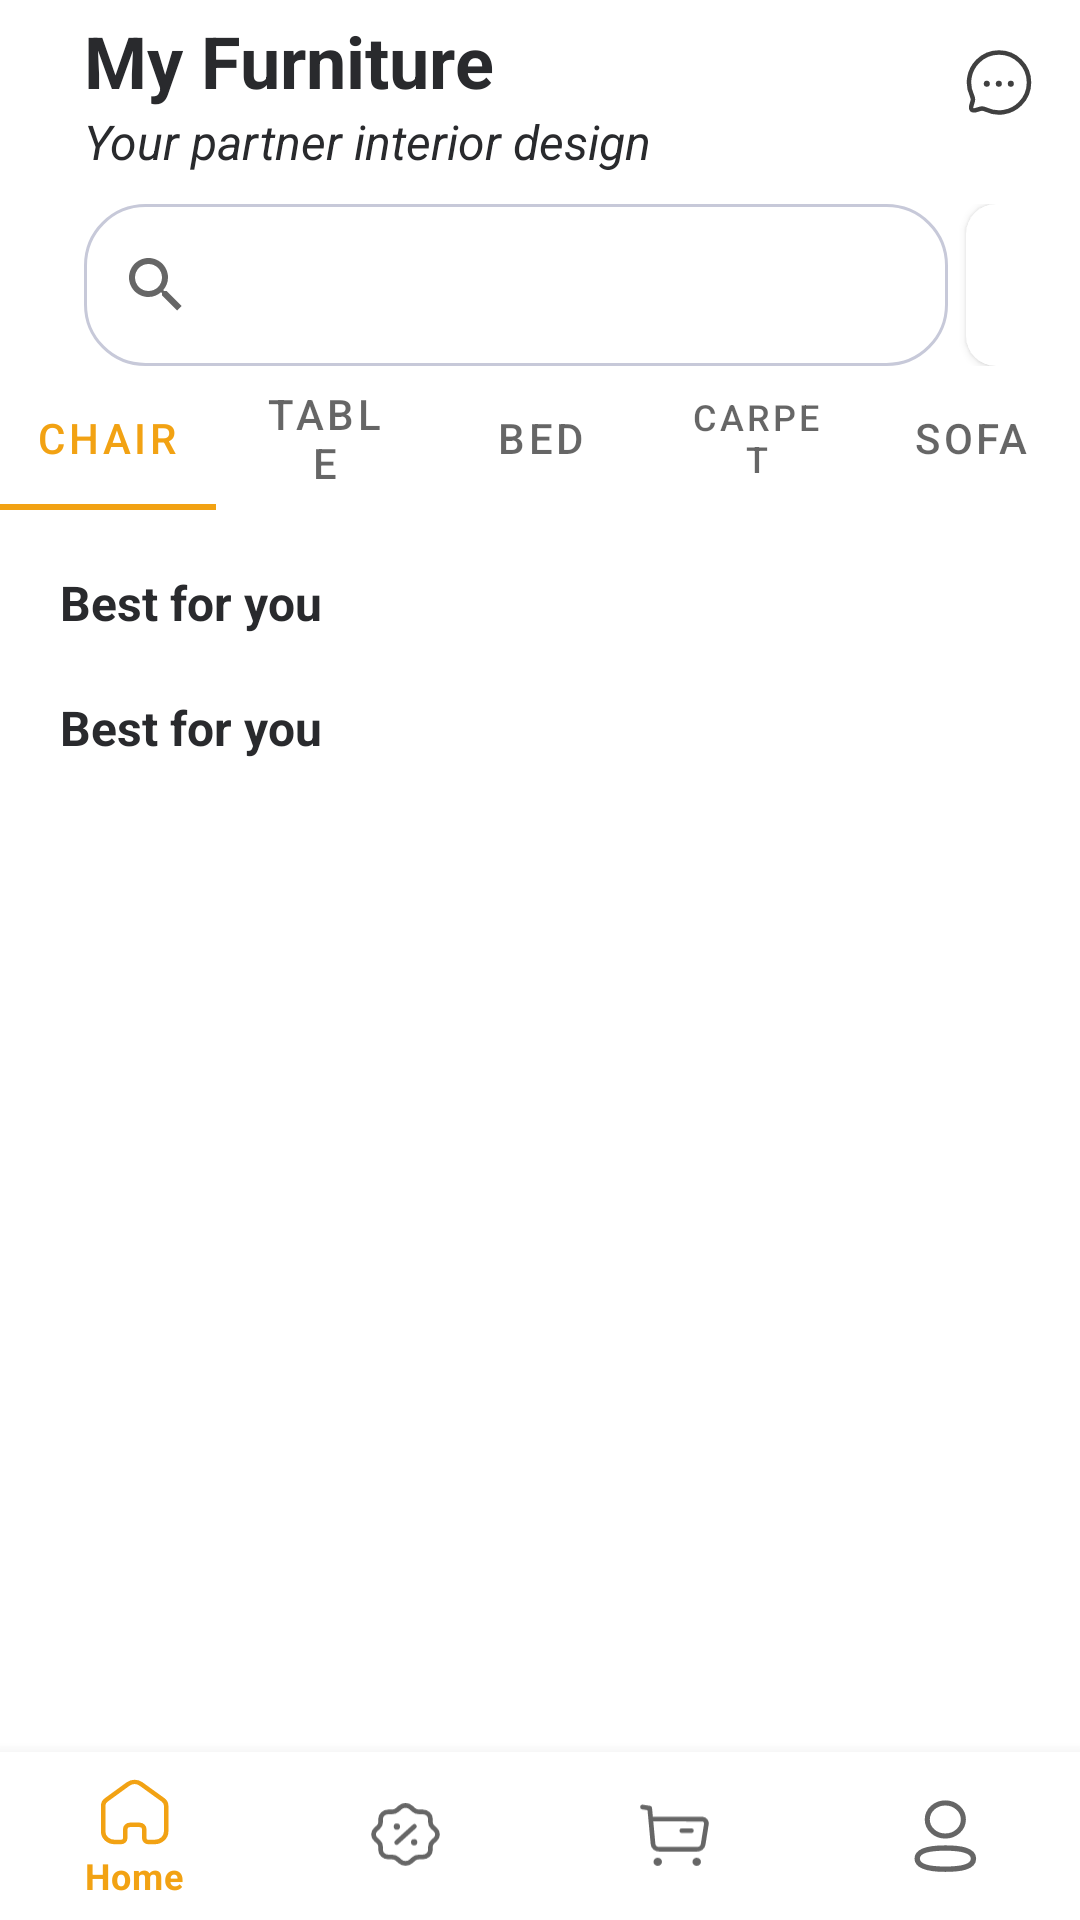

Where to tap for icons on this 1080 x 1920 app screen, as [x,y]:
message: [999,82]
